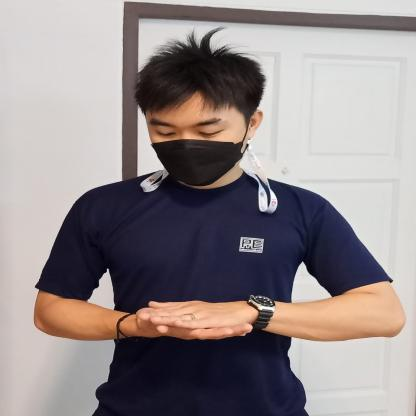Love: (28, 273, 367, 356)
